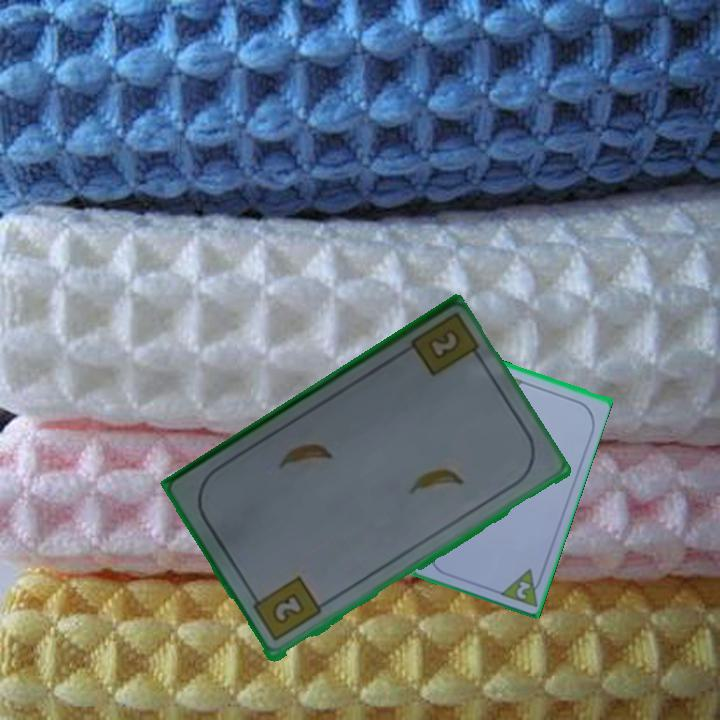2b: (248, 573, 325, 645), (424, 329, 460, 363)
2p: (513, 577, 533, 602)
